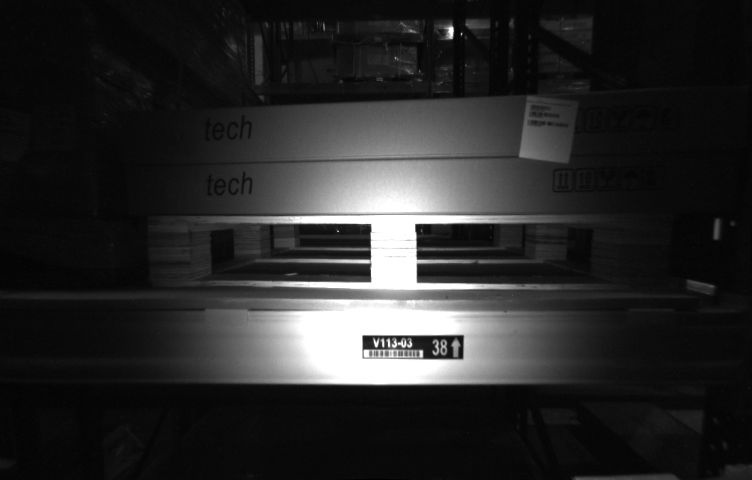True Barcode: (33, 103, 76, 152)
